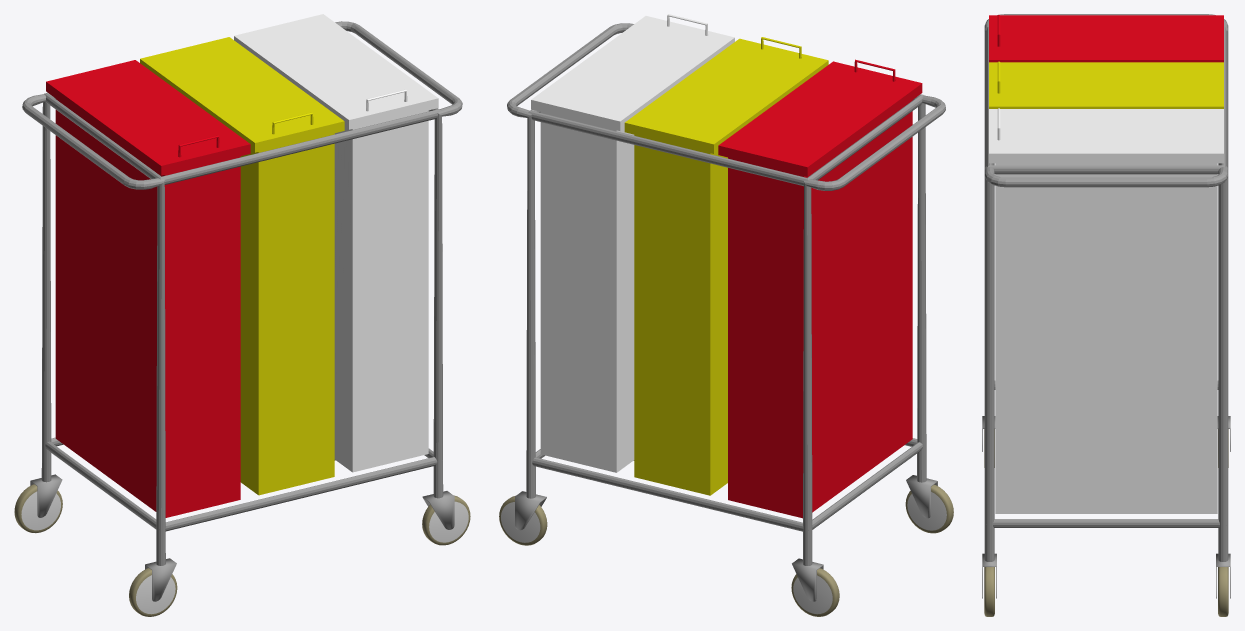
3 views of the same model, side by side, from view 1: azimuth 30°, elevation 25°; view 2: azimuth 150°, elevation 25°; view 3: azimuth 270°, elevation 25° (orthographic). The views are drawn at different scales.
Visible parts, largest first — view 1: K-117; view 2: K-117; view 3: K-117.
Part boxes in pixels (bbox=[...]): K-117: bbox=[14, 14, 470, 616]; K-117: bbox=[499, 14, 953, 616]; K-117: bbox=[982, 14, 1230, 616].
Size of the model in its own units: 81.59 by 106 by 50.87.
